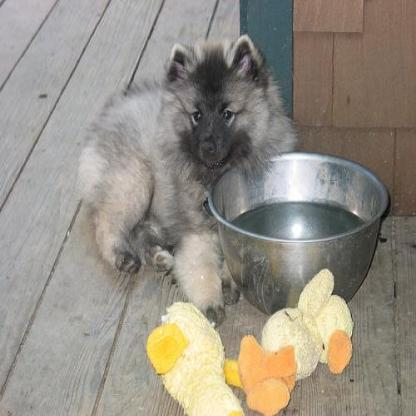keeshond: (69, 27, 295, 324)
